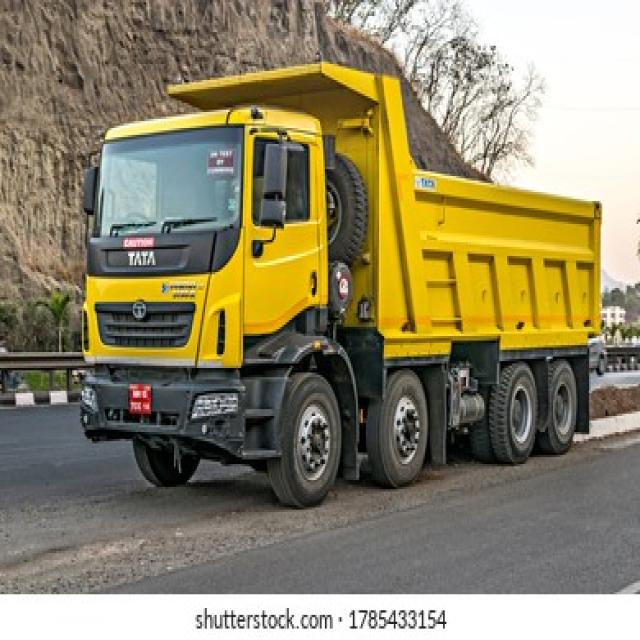truck: (80, 63, 600, 506)
